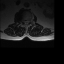CCS_normal: (25, 19, 26, 25)
LFS_normal: (28, 19, 30, 24)
LLS_normal: (26, 19, 28, 25)
RFS_stenosis: (21, 19, 23, 24)
RLS_normal: (23, 19, 25, 24)
